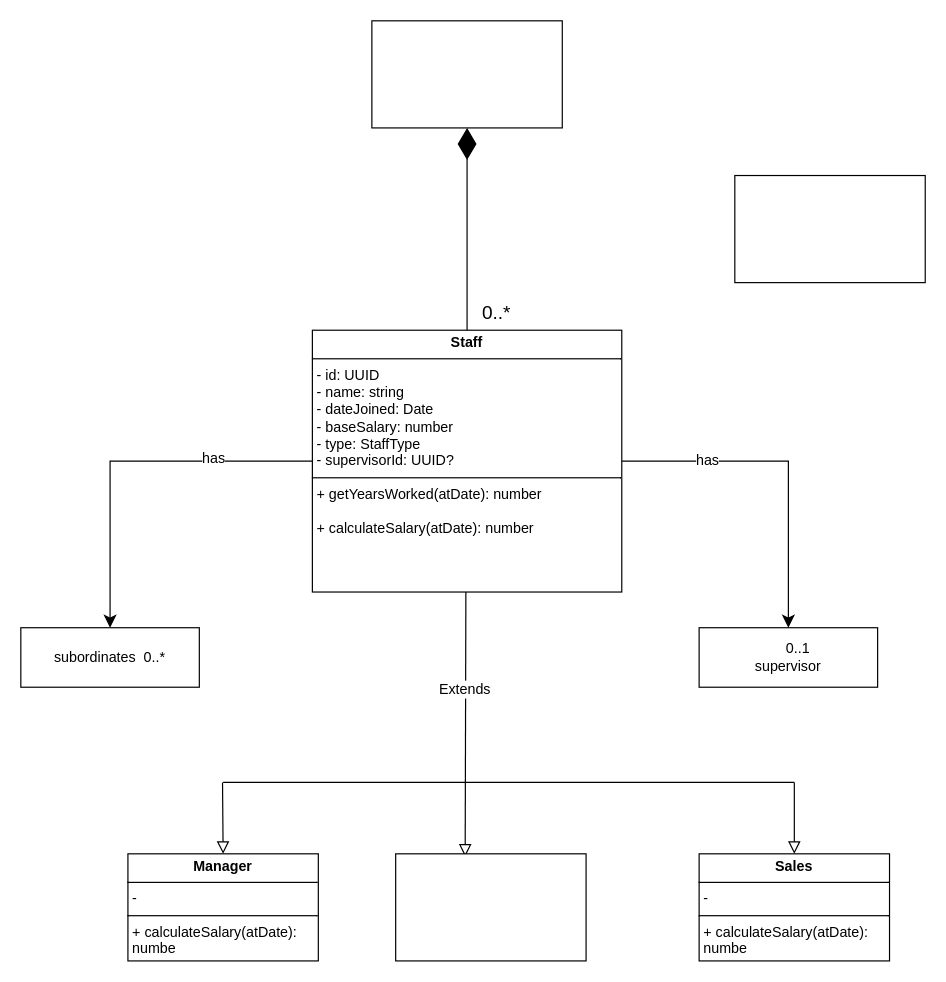
The diagram is 946 pixels wide and 982 high, and some of its shapes have lost their labels. Each missing label, with the box of its shape:
Company - staff: Staff[] + getTotalSalary(atDate): numbe: (371, 20, 562, 128)
Employee - + calculateSalary(atDate): numbe: (394, 853, 586, 961)
StaffType EMPLOYEE MANAGER SALES: (734, 174, 925, 283)
